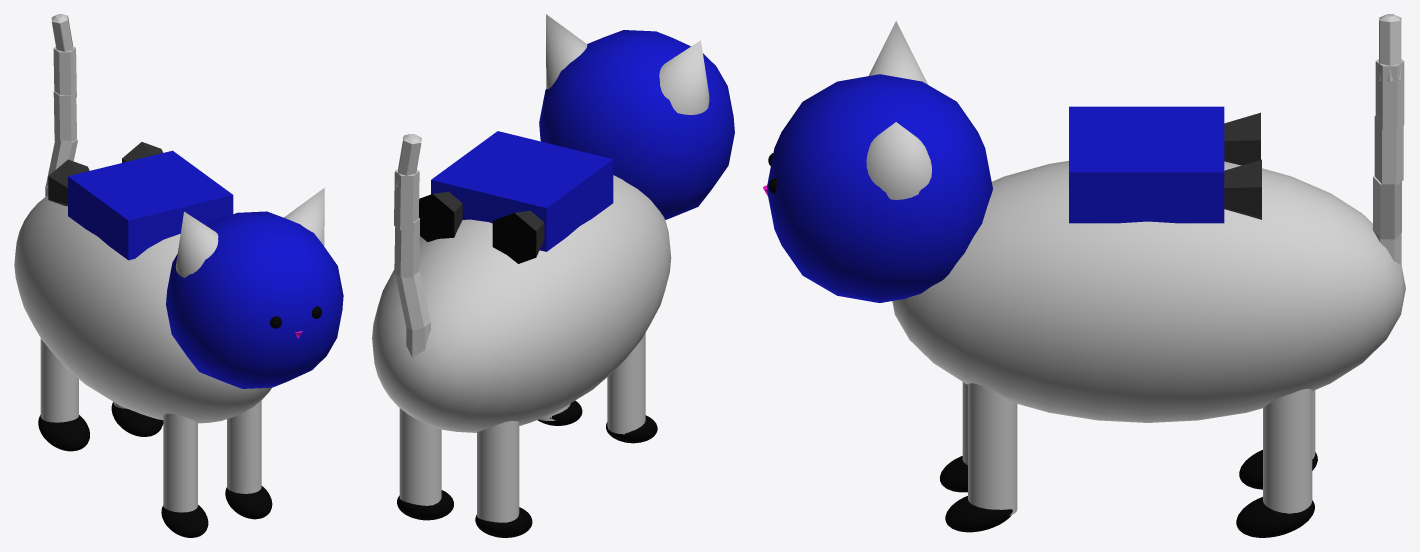
3 renders of one model, left to right at view 1: azimuth 30°, elevation 25°; view 2: azimuth 150°, elevation 25°; view 3: azimuth 270°, elevation 25°, orthographic. The views are drawn at different scales.
Visible parts, largest first — view 1: 体, 顔, ジェットパック, 左前足, 右前足, 左後足, 左耳, 球.003, 右耳, しっぽ２, 球.001, 球 (+6 smaller); view 2: 体, 顔, ジェットパック, 左後足, 右後足, 左前足, 左耳, 円錐, 円錐.001, 右耳, しっぽ３, しっぽ１ (+7 smaller); view 3: 体, 顔, ジェットパック, 右前足, 右後足, 右耳, 球.002, 円錐.001, しっぽ３, しっぽ２, 円錐, 左耳 (+5 smaller).
Part boxes in pixels (bbox=[...]): 体: bbox=[14, 195, 271, 423]; 顔: bbox=[166, 211, 343, 388]; ジェットパック: bbox=[68, 150, 233, 260]; 左前足: bbox=[163, 413, 197, 512]; 右前足: bbox=[227, 400, 261, 493]; 左後足: bbox=[40, 338, 78, 422]; 左耳: bbox=[175, 211, 218, 277]; 球.003: bbox=[38, 415, 89, 451]; 右耳: bbox=[284, 188, 324, 245]; しっぽ２: bbox=[53, 91, 76, 142]; 球.001: bbox=[161, 505, 208, 537]; 球: bbox=[225, 486, 272, 519]; 体: bbox=[372, 175, 671, 432]; 顔: bbox=[539, 30, 734, 219]; ジェットパック: bbox=[431, 131, 613, 251]; 左後足: bbox=[477, 421, 519, 522]; 右後足: bbox=[399, 408, 441, 505]; 左前足: bbox=[607, 333, 645, 434]; 左耳: bbox=[659, 40, 709, 114]; 円錐: bbox=[492, 210, 544, 263]; 円錐.001: bbox=[419, 191, 462, 242]; 右耳: bbox=[546, 14, 587, 89]; しっぽ３: bbox=[394, 169, 419, 230]; しっぽ１: bbox=[395, 269, 430, 329]; 体: bbox=[892, 161, 1405, 422]; 顔: bbox=[767, 74, 992, 302]; ジェットパック: bbox=[1069, 106, 1224, 223]; 右前足: bbox=[968, 383, 1017, 515]; 右後足: bbox=[1263, 388, 1312, 513]; 右耳: bbox=[866, 122, 931, 199]; 球.002: bbox=[1236, 497, 1314, 537]; 円錐.001: bbox=[1224, 159, 1261, 219]; しっぽ３: bbox=[1375, 59, 1404, 130]; しっぽ２: bbox=[1374, 115, 1403, 185]; 円錐: bbox=[1224, 112, 1260, 165]; 左耳: bbox=[868, 21, 927, 84].
Bounding box in the file's own units: 2 × 4.08 × 4.77.
